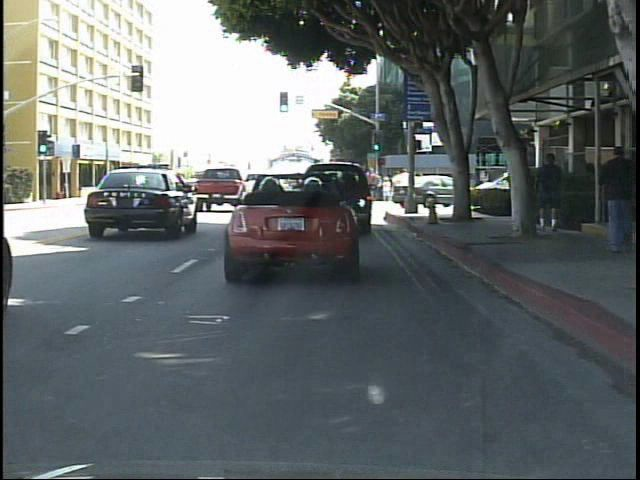person: (597, 141, 636, 260), (536, 146, 570, 236), (131, 175, 150, 202)
